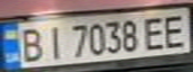0: (87, 20, 109, 56)
3: (103, 18, 124, 55)
7: (66, 20, 90, 58)
8: (118, 16, 142, 53)
B: (15, 25, 48, 63)
E: (157, 11, 193, 50), (139, 13, 172, 51)
I: (42, 21, 69, 61)
